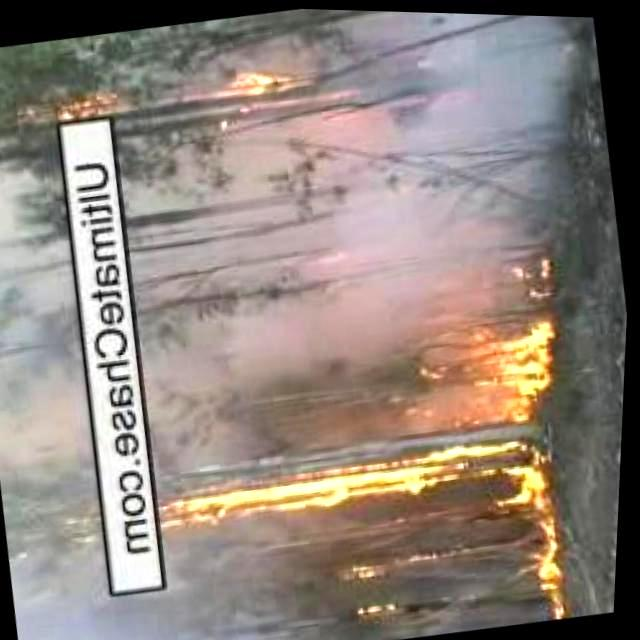fire: (452, 288, 600, 622), (158, 436, 486, 536), (36, 78, 144, 134), (214, 58, 302, 114), (344, 548, 404, 588), (346, 594, 410, 620)
